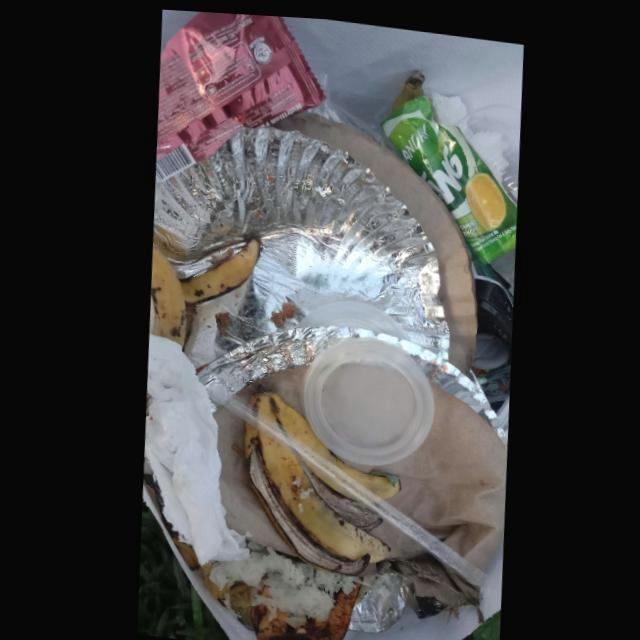food_wrapper: (153, 9, 324, 182)
left_over_food: (201, 544, 355, 619)
plastic_sachet: (379, 90, 515, 258)
